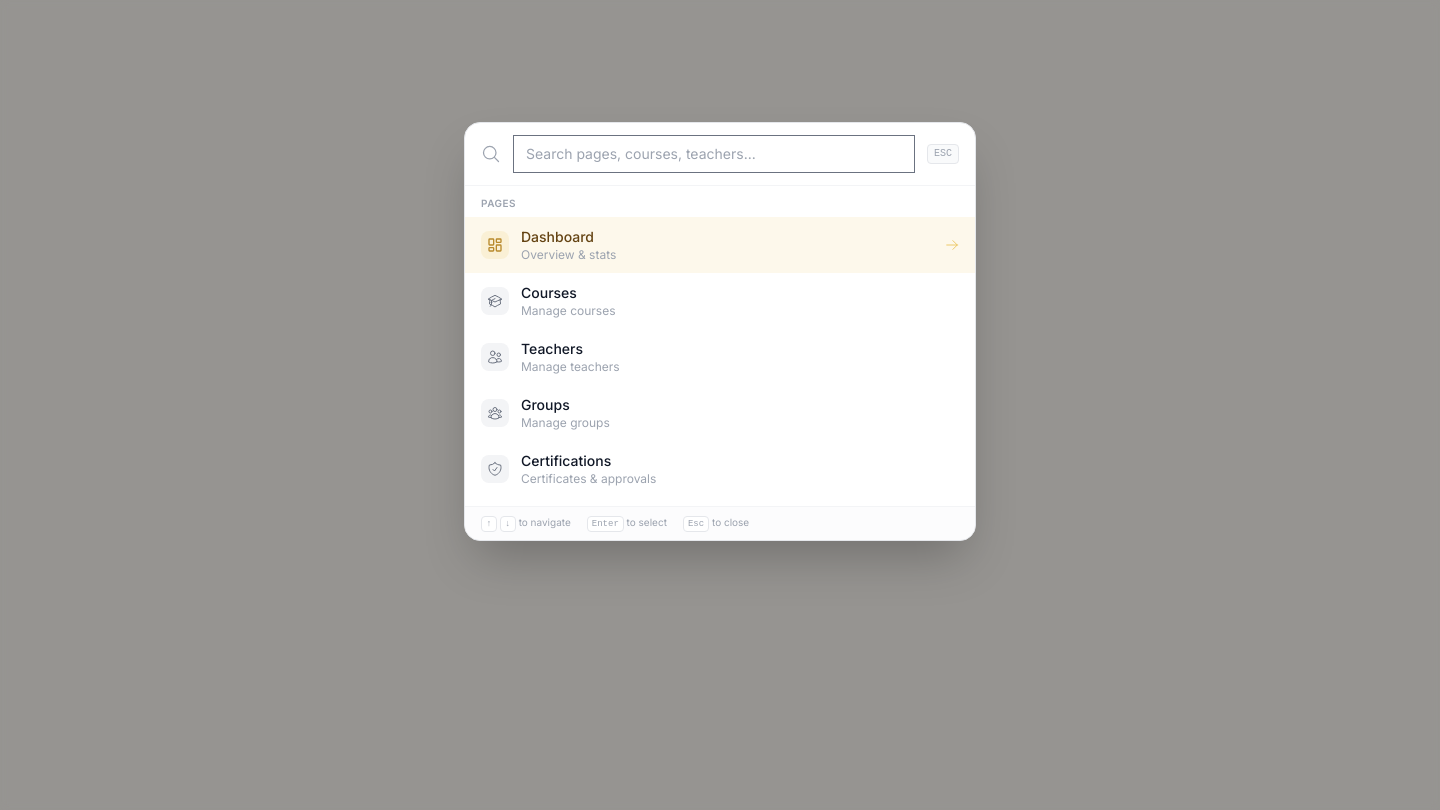
Test: CommandPalette — teacher search › shows teacher results from API
The width and height of the screenshot is (1440, 810).
Type "jane" into the field with placeholder "Search pages, courses, teachers..." at (714, 154), box [513,134,915,172]
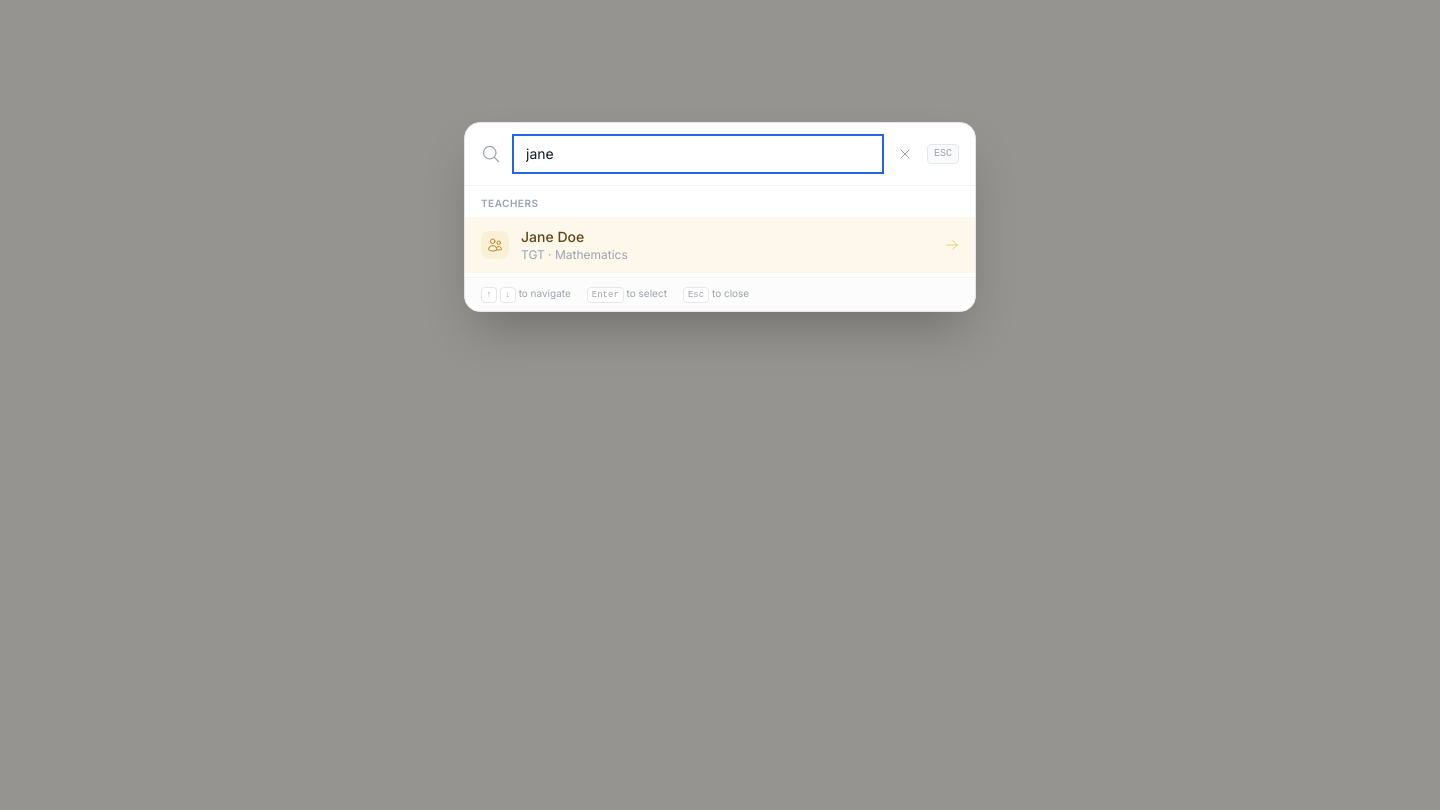
Expected: the text "Jane Doe" is shown, [521,228,584,244]
Expected: the text "TGT · Mathematics" is shown, [521,246,628,262]
